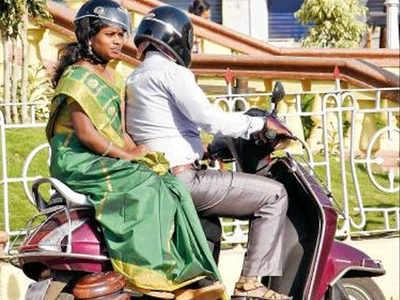Helmet: (55, 0, 137, 81), (134, 5, 193, 69)
